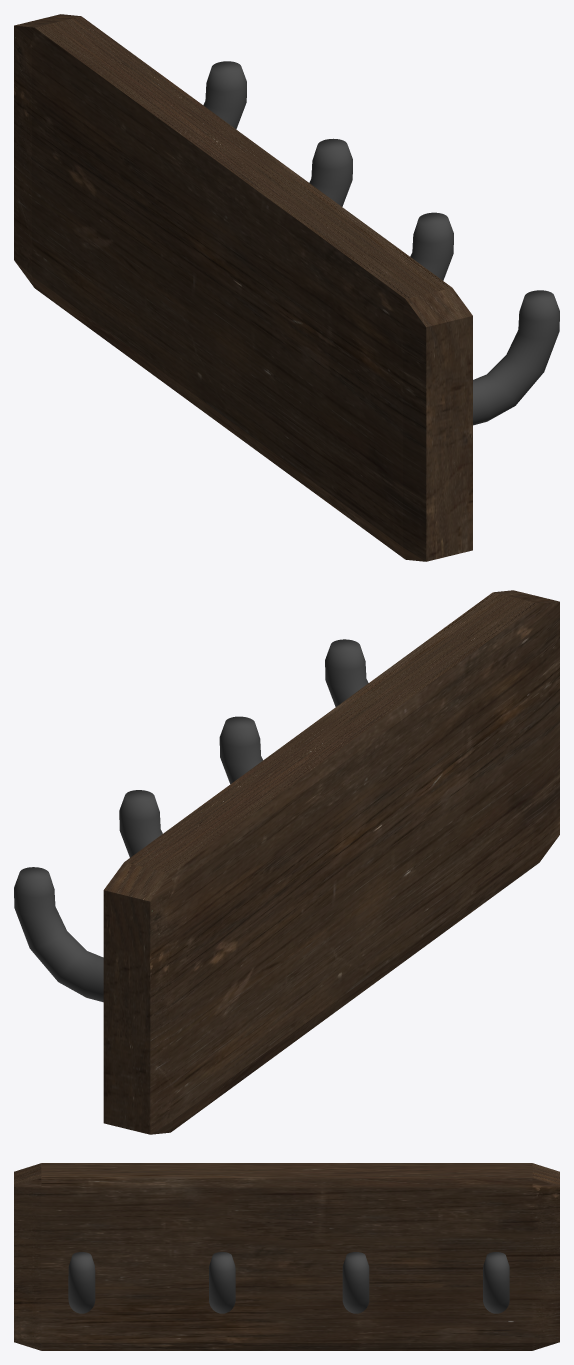
The model's file is Kleiderhacken.fbx.
3 views of the same model, one above another, from view 1: azimuth 30°, elevation 25°; view 2: azimuth 150°, elevation 25°; view 3: azimuth 270°, elevation 25° (orthographic). The views are drawn at different scales.
Visible parts, largest first — view 1: Cylinder.002; view 2: Cylinder.002; view 3: Cylinder.002.
Part boxes in pixels (x1=…): Cylinder.002: x1=14, y1=14, x2=559, y2=561; Cylinder.002: x1=14, y1=590, x2=559, y2=1134; Cylinder.002: x1=14, y1=1163, x2=559, y2=1350.
Bounding box in the file's own units: 60.84 × 81.82 × 235.
2 materials, 1 textured.
